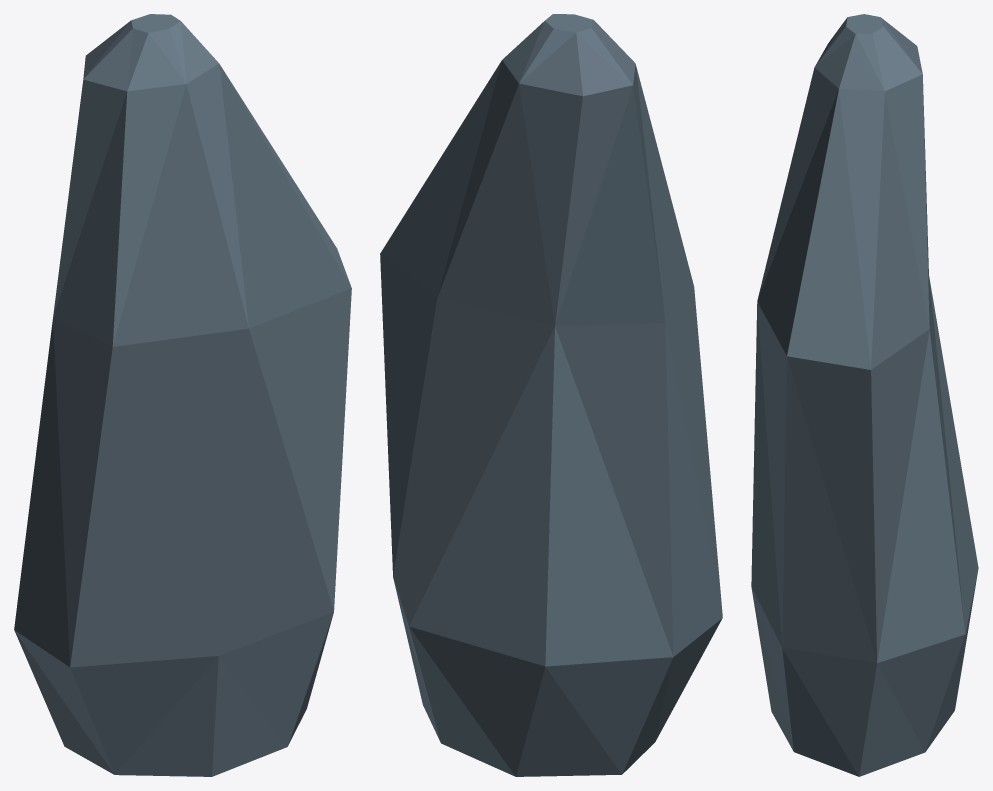
The model's file is T07_Rock_Pillar.fbx.
3 views of the same model, side by side, from view 1: azimuth 30°, elevation 25°; view 2: azimuth 150°, elevation 25°; view 3: azimuth 270°, elevation 25° (orthographic). The views are drawn at different scales.
Parts seen in each view (by area): view 1: T07_Rock_Pillar; view 2: T07_Rock_Pillar; view 3: T07_Rock_Pillar.
Boxes of the visible parts, bbox=[...] form: T07_Rock_Pillar: bbox=[14, 14, 351, 776]; T07_Rock_Pillar: bbox=[380, 14, 722, 776]; T07_Rock_Pillar: bbox=[751, 14, 978, 776].
Size of the model in its own units: 1.16 by 2.6 by 0.7831.
1 material, 1 textured.
